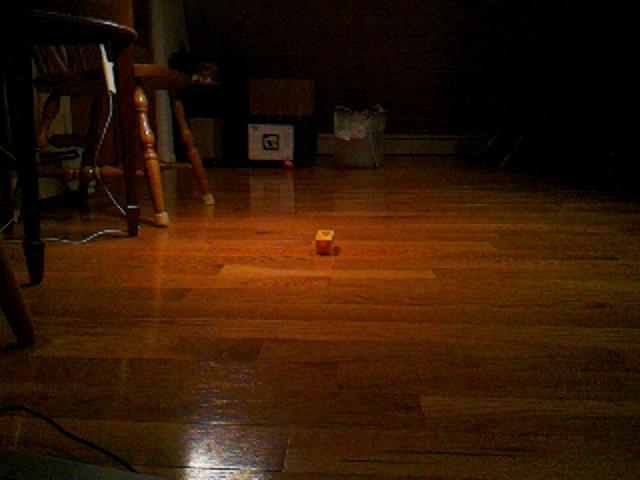yellow: (314, 228, 336, 256)
